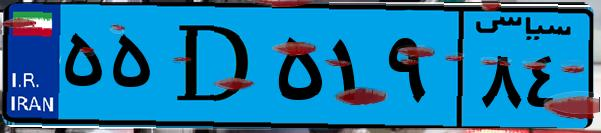1: (330, 28, 385, 110)
4: (525, 38, 570, 115)
5: (270, 28, 330, 110), (57, 26, 110, 100), (110, 28, 158, 98)
8: (475, 38, 525, 113)
9: (385, 28, 445, 110)
D: (158, 12, 270, 120)
